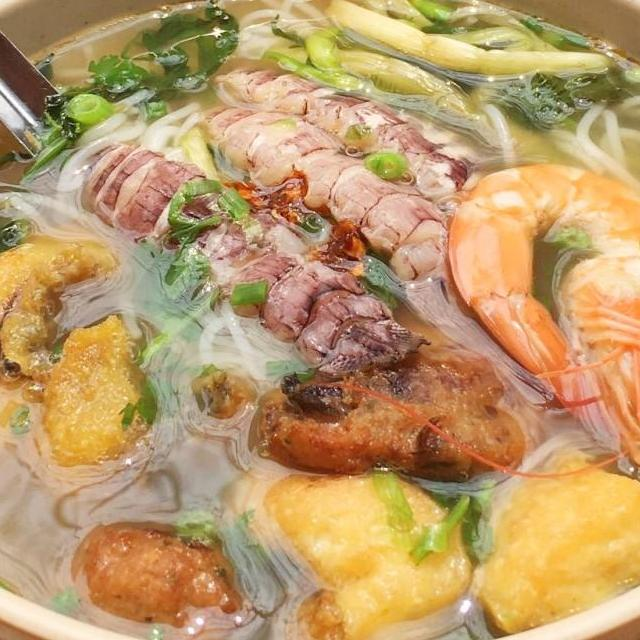bun: (0, 96, 212, 251), (465, 76, 640, 220), (212, 0, 387, 75)
bun hai san: (0, 0, 640, 640)
ca: (233, 337, 564, 494), (39, 515, 251, 640)
dau hu: (213, 451, 477, 640), (452, 439, 640, 640)
tom: (436, 157, 640, 540)
tom tit: (71, 136, 438, 384), (170, 91, 464, 299), (203, 61, 500, 223)
